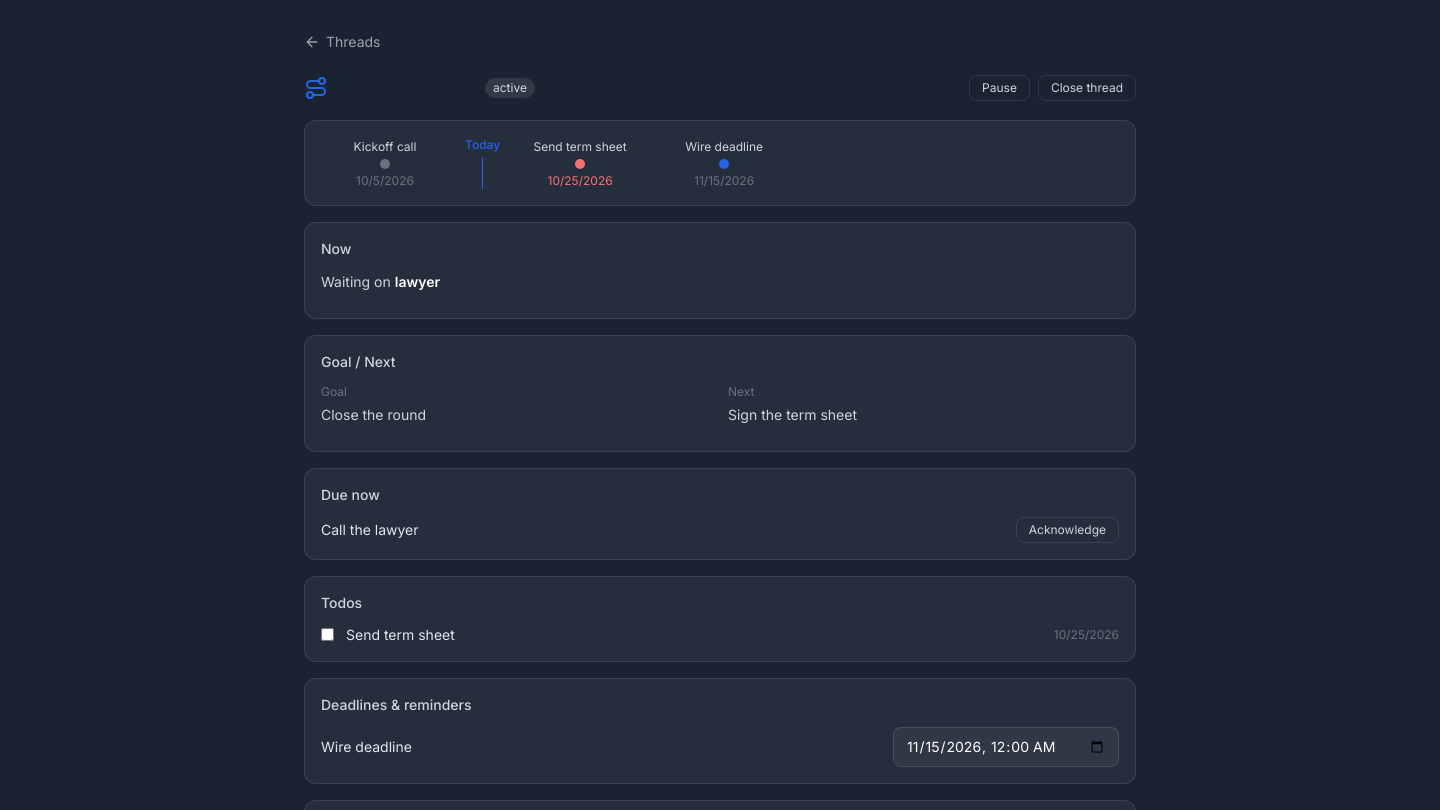
Test: ThreadDetail page › close dialog lists every open item, including an undated milestone
The width and height of the screenshot is (1440, 810).
What coordinates should you click on to do the following:
click the button "Close thread"
I would click on:
 (1087, 88)
Its box is [1038,75,1136,101].
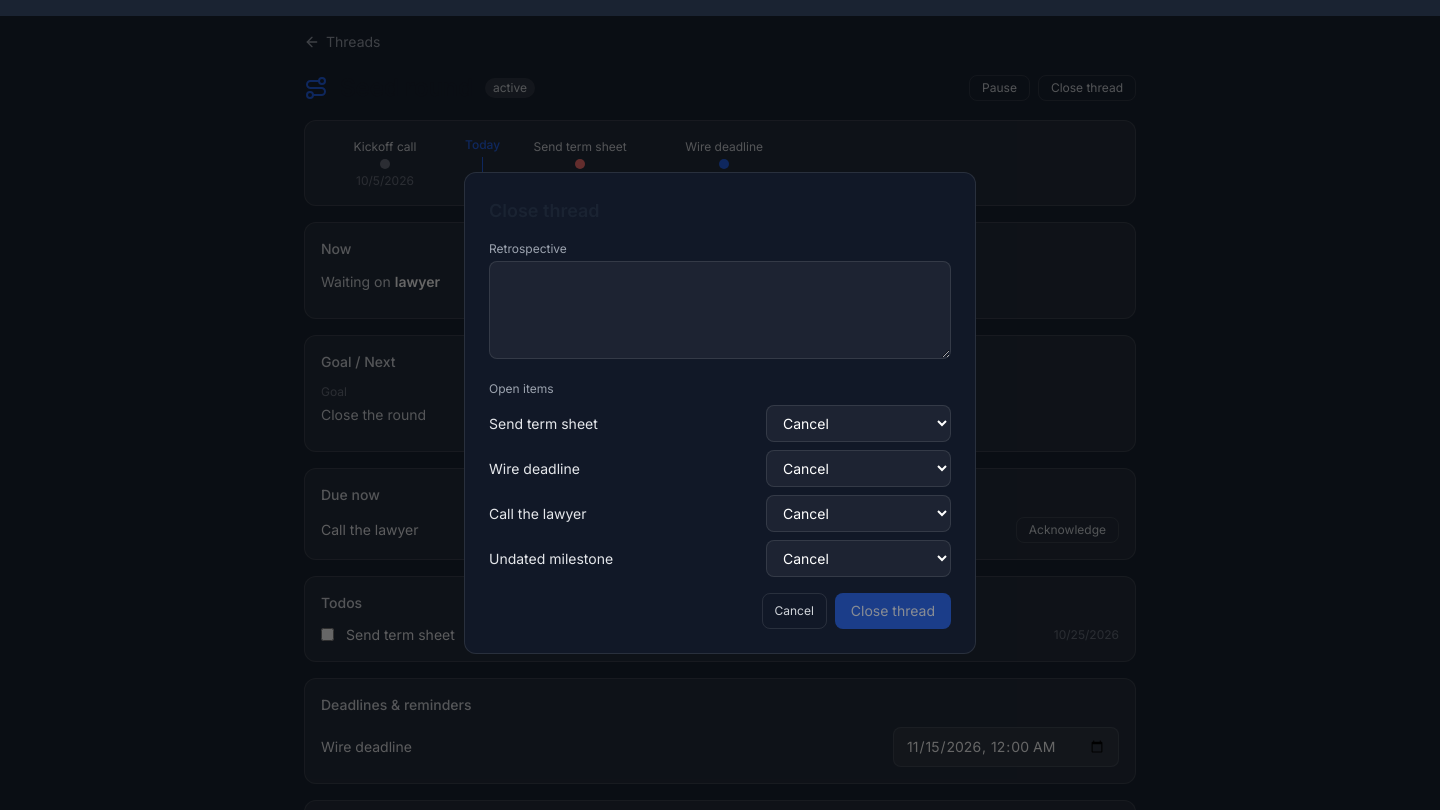
Expected: the dropdown named "Undated milestone" is shown, [766,540,951,577]
